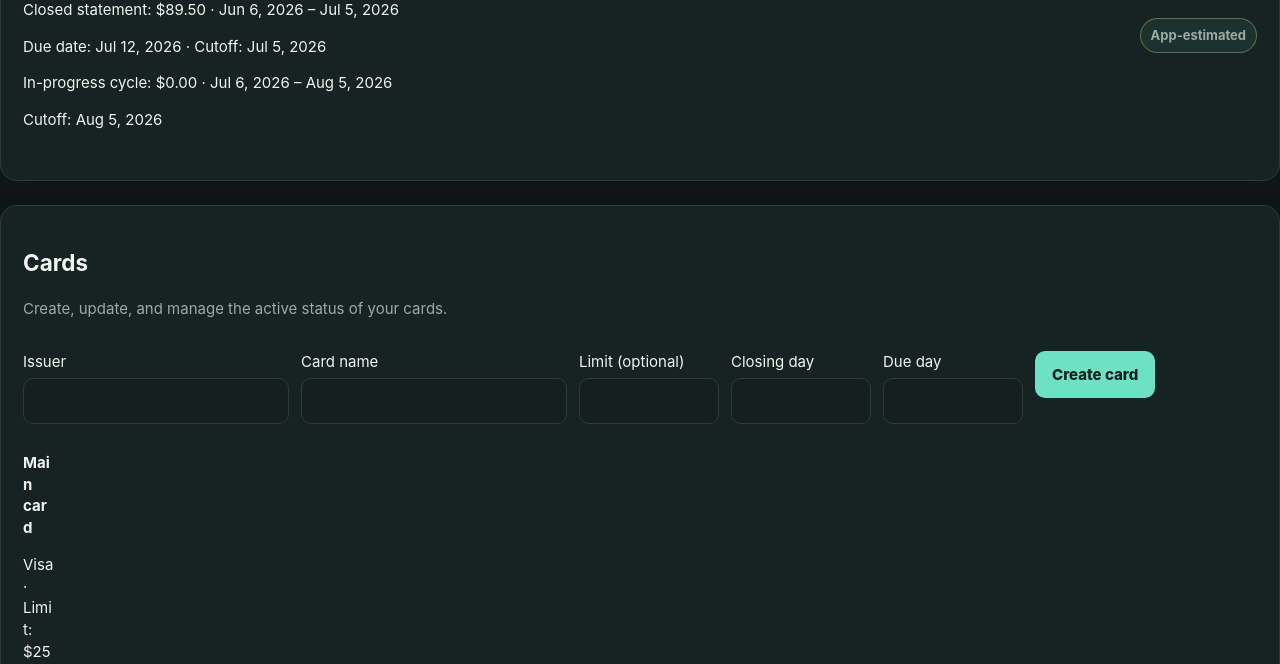
Test: CreditCardsPage › surfaces a create backend validation error without pretending success or losing the form
(page scrolled)
Type "Amex" into the 1st field labelled "Issuer" at (156, 401), box [23,378,289,424]
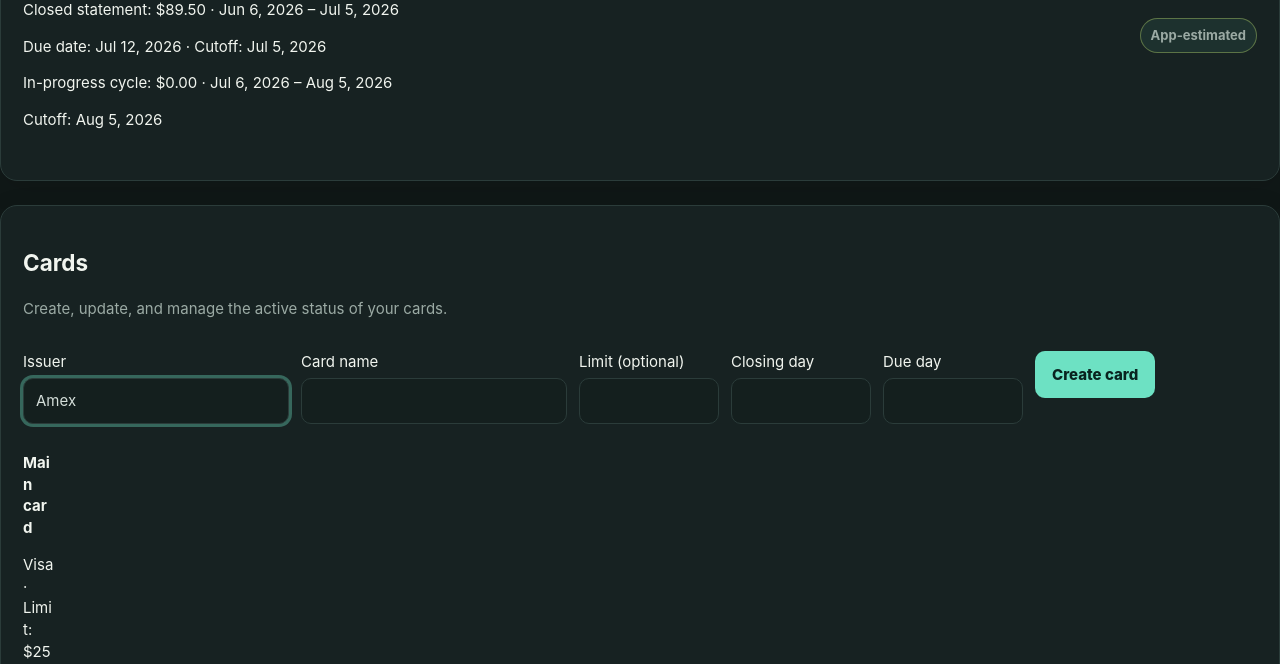
Type "Daily card" into the 1st field labelled "Card name" at (434, 401), box [301,378,567,424]
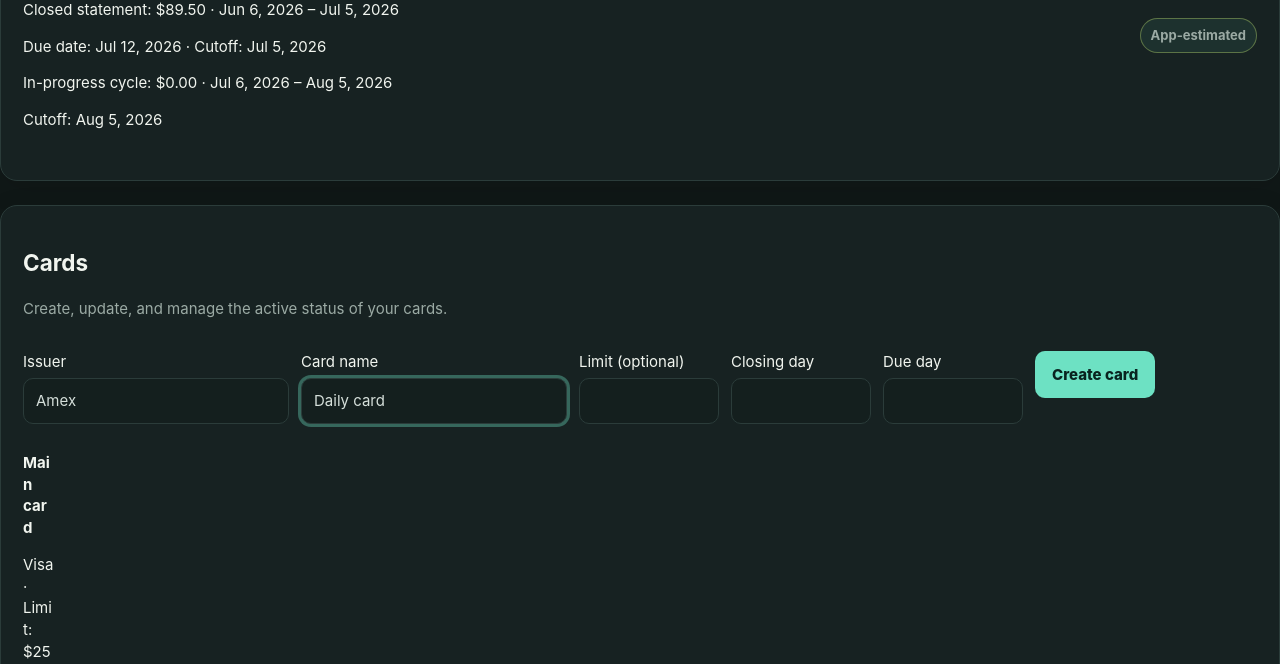
Type "1000" into the 1st number field labelled "Limit (optional)" at (649, 401), box [579,378,719,424]
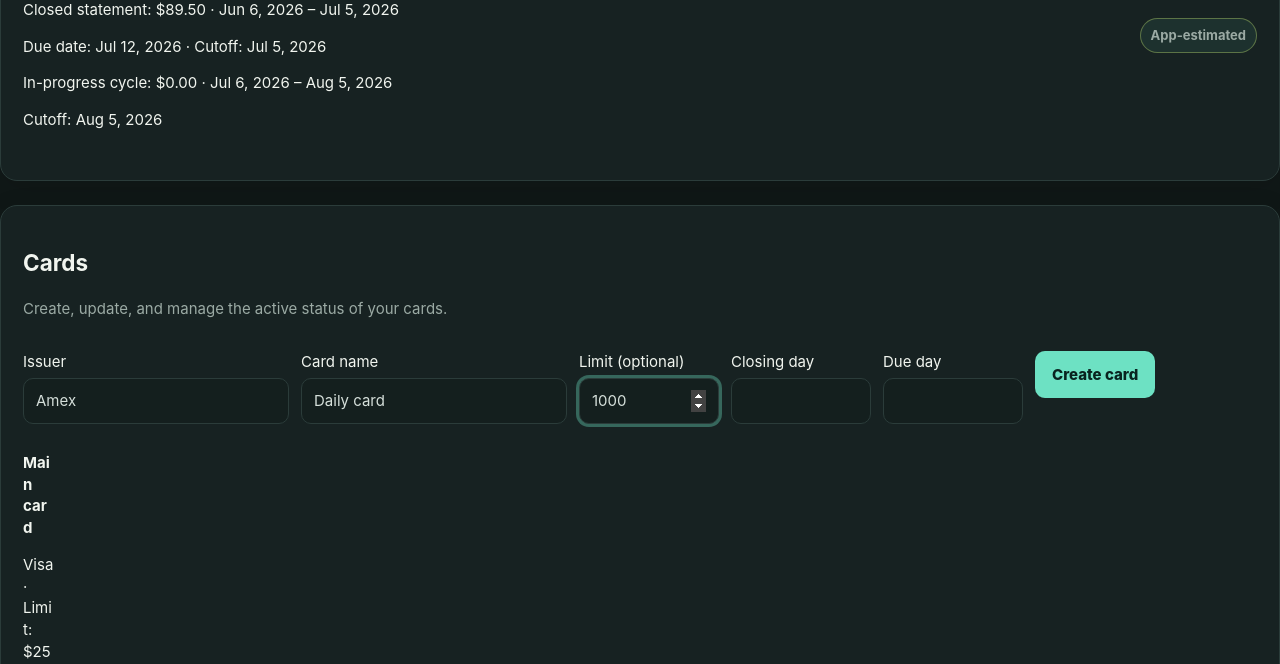
Type "10" into the 1st number field labelled "Closing day" at (801, 401), box [731,378,871,424]
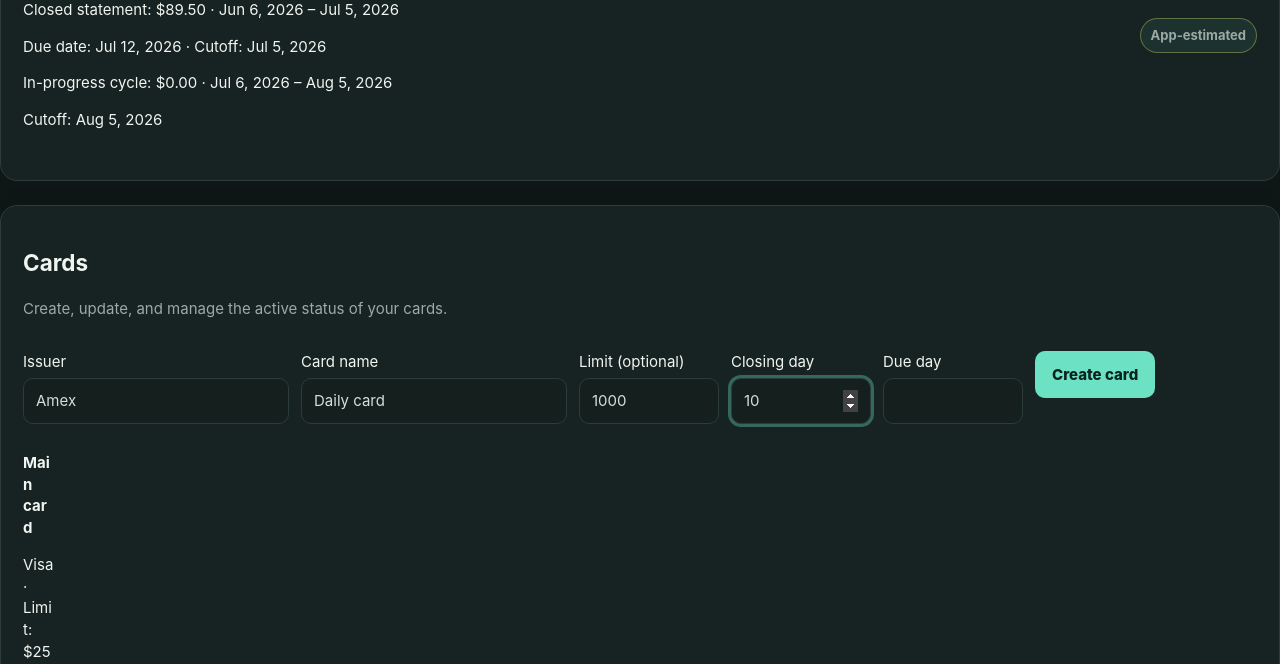
Type "20" into the 1st number field labelled "Due day" at (953, 401), box [883,378,1023,424]
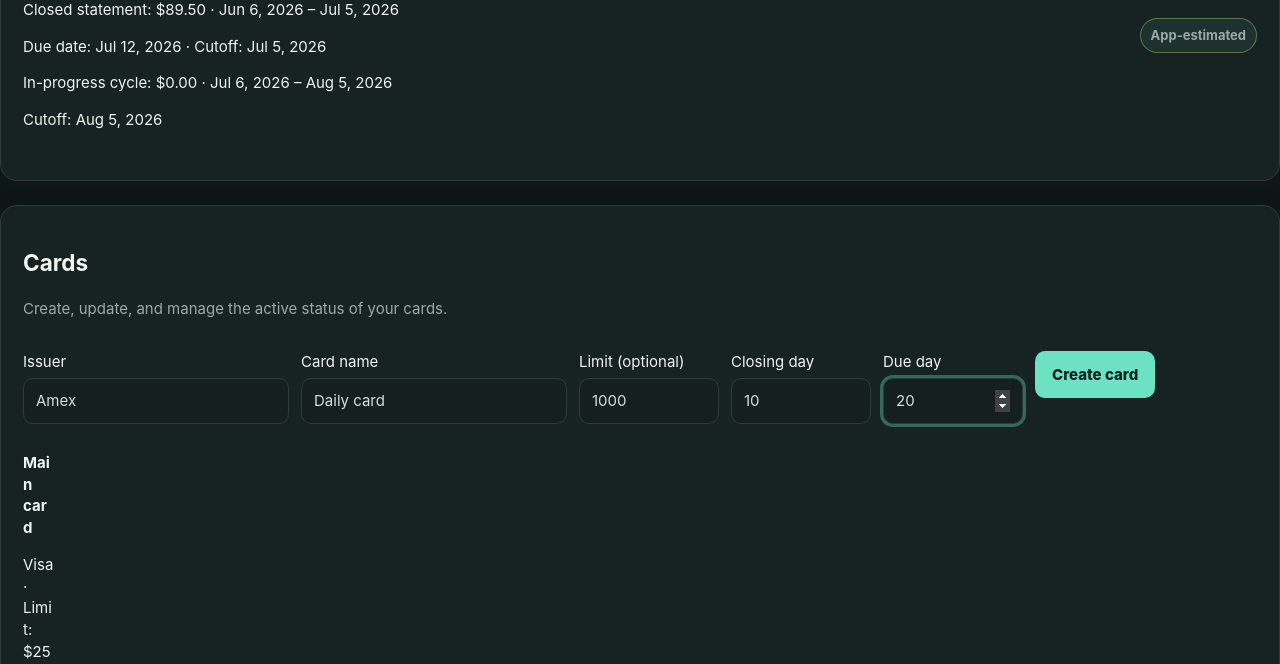
Click the button "Create card" at (1095, 375), box [1035,351,1155,398]
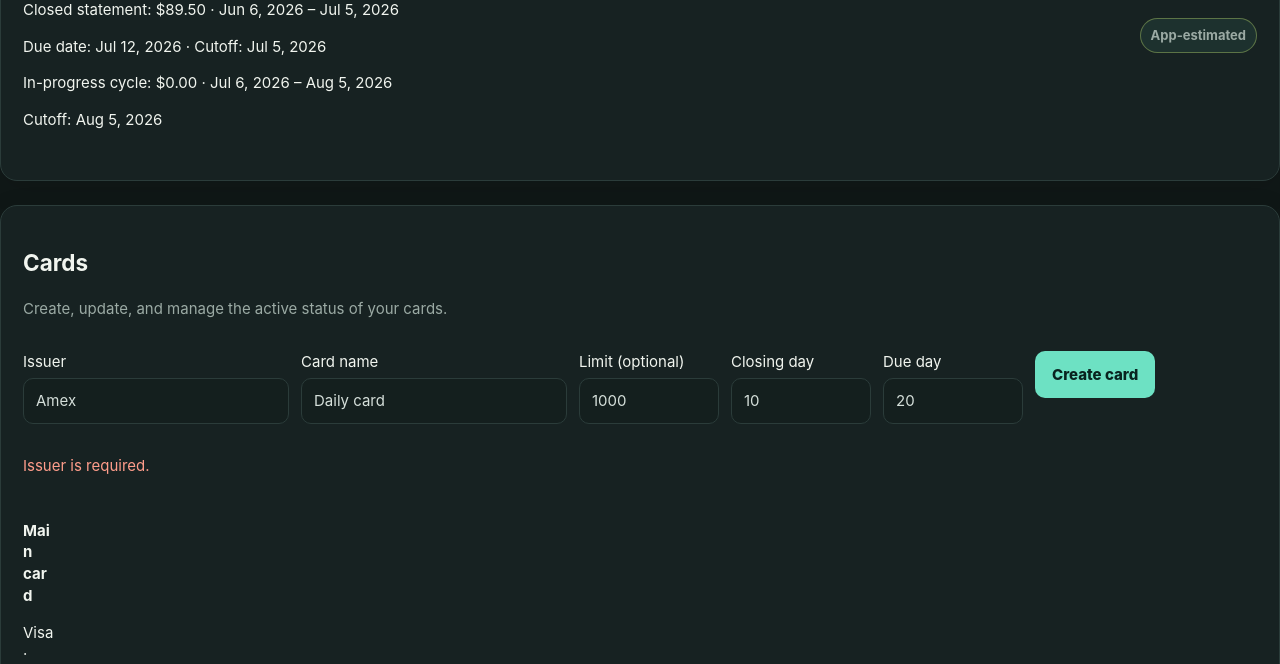
Now the message "Issuer is required." is shown, box [23,456,150,475]
